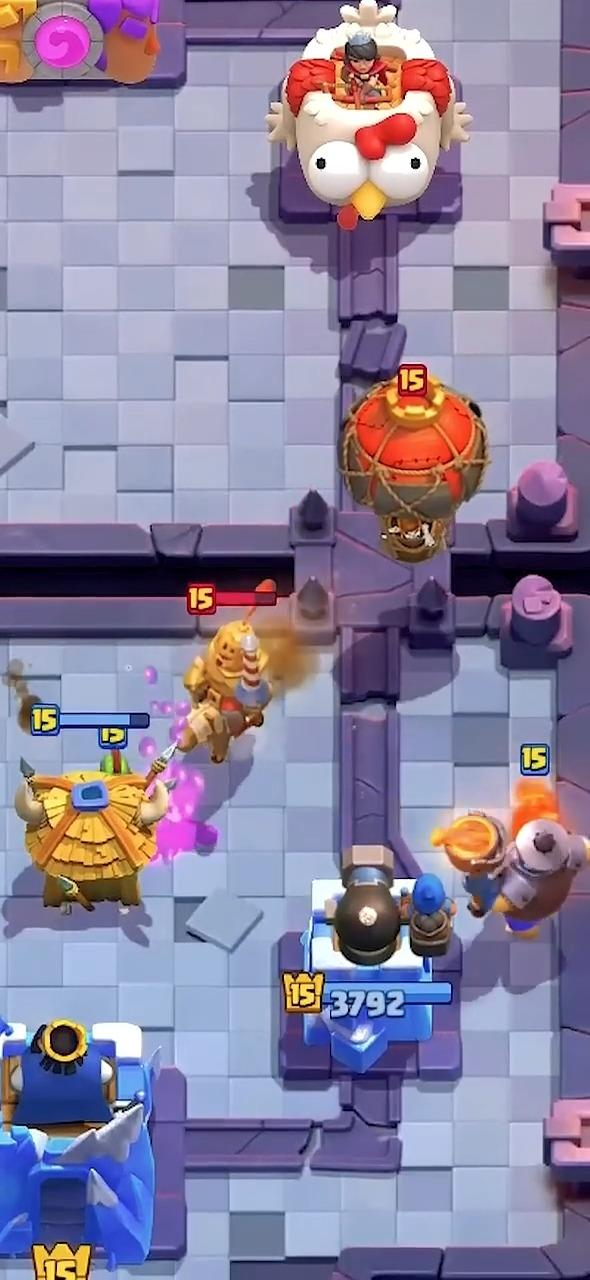baloon: (340, 366, 488, 562)
furnace: (432, 811, 589, 935)
goblin hut: (14, 747, 172, 912)
prince: (179, 606, 270, 762)
